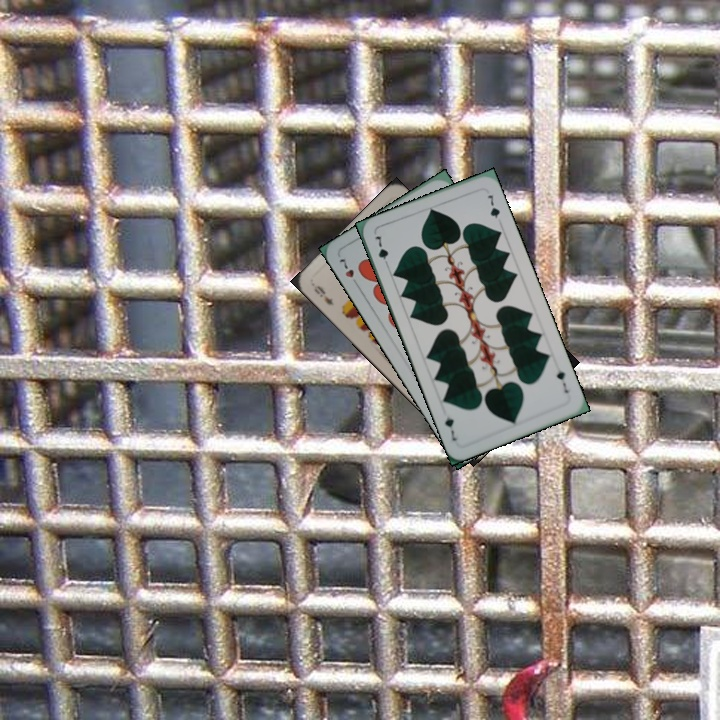E9: (308, 280, 336, 307)
G7: (371, 232, 392, 270), (552, 366, 571, 396)
H7: (335, 254, 361, 290)
